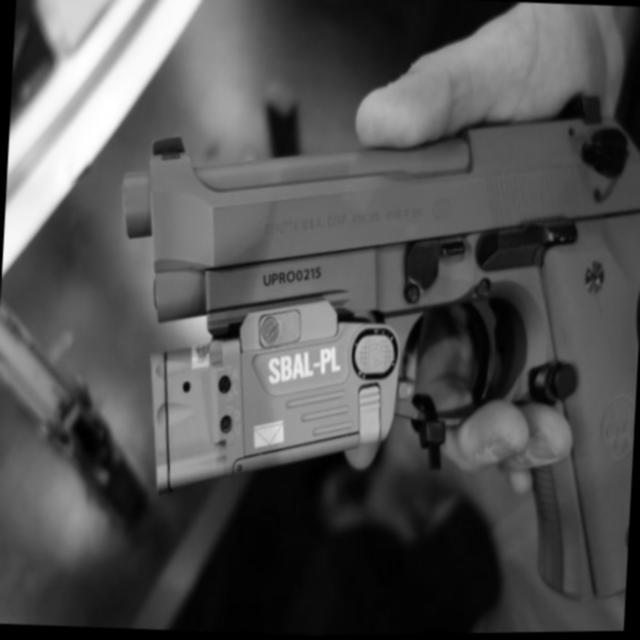weapon: (101, 71, 640, 610)
